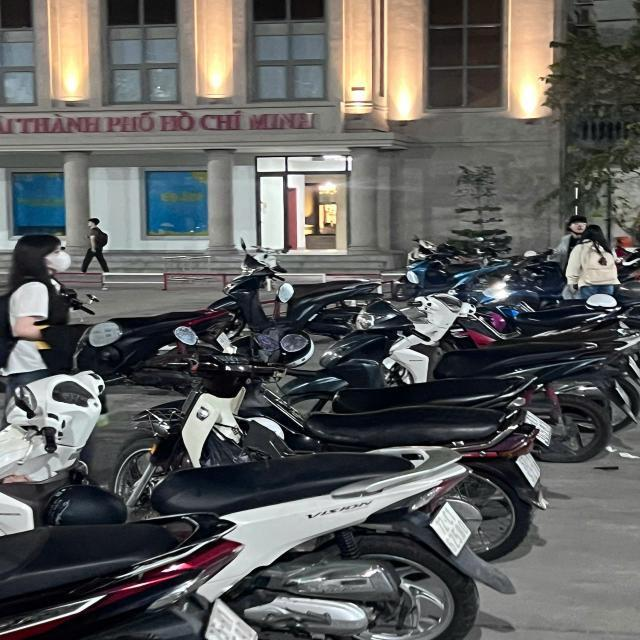motorcycle: (0, 367, 514, 640), (116, 354, 548, 565), (0, 515, 264, 640)
plate: (198, 602, 265, 640), (429, 502, 474, 556)
